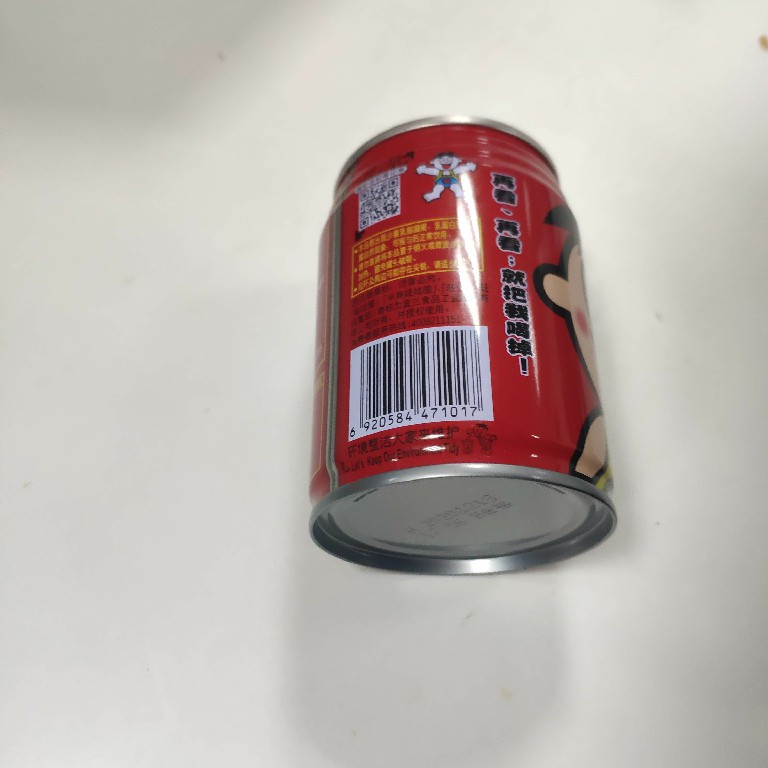can: (301, 109, 632, 586)
